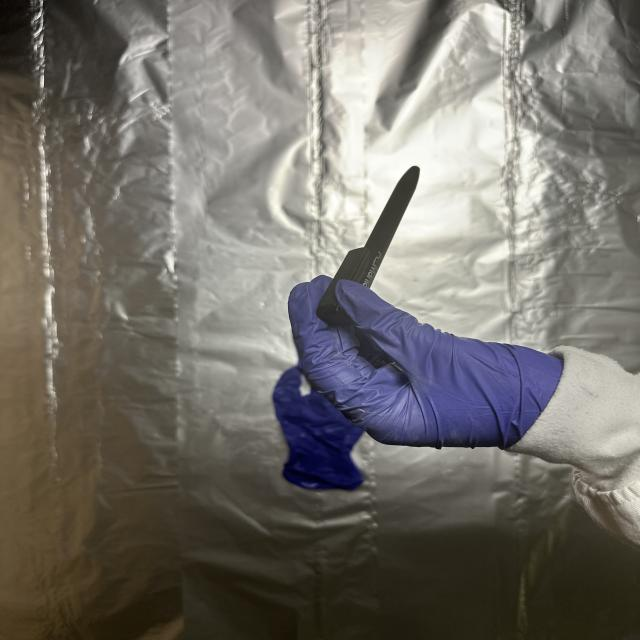gloves_contaminated: (289, 280, 563, 449)
